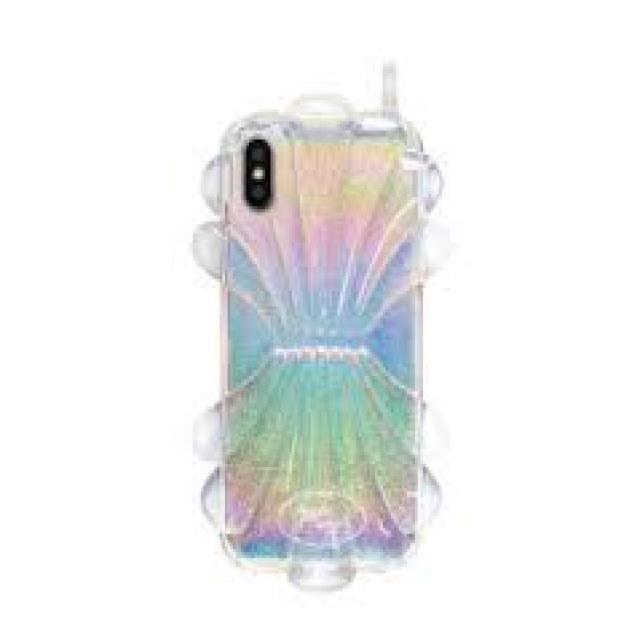Phone: (219, 119, 425, 567)
